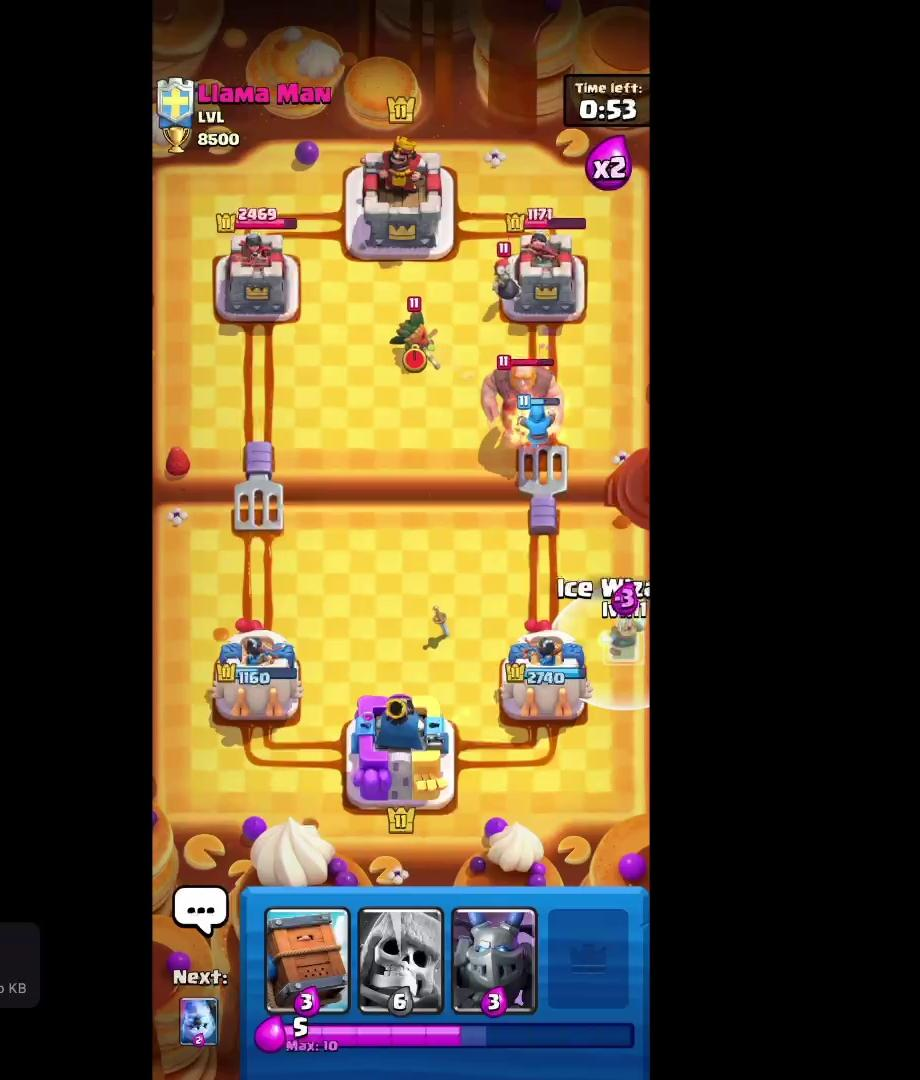Bomber: (486, 242, 525, 309)
